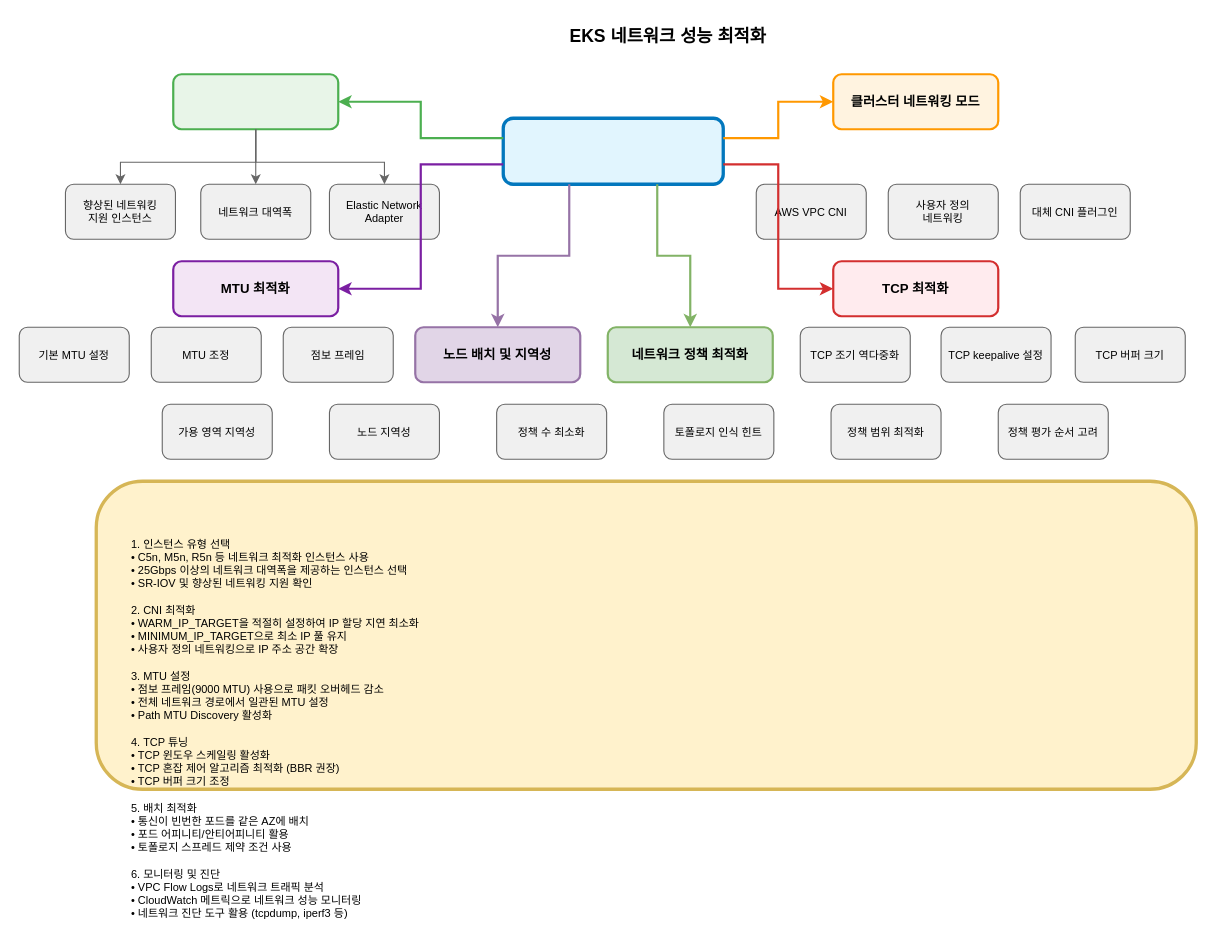
This 1217x939 diagram has some shape labels left out. Here are the shapes that lost their labels. From the top down, the box of each, then its label:
(172, 73, 339, 130): 인스턴스 유형 선택
(501, 116, 724, 185): 네트워크 성능 최적화
(94, 479, 1197, 790): 성능 최적화 팁
